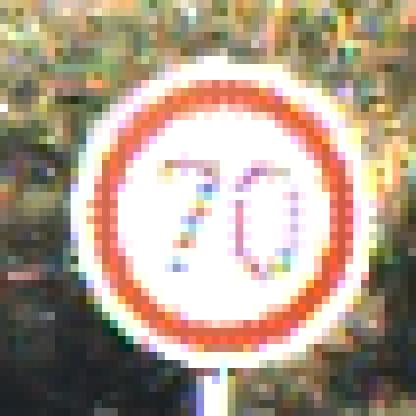Speed Limit 70: (76, 68, 369, 370)
